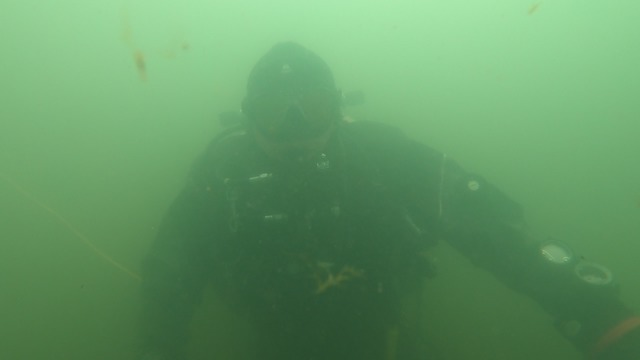Diver: (124, 43, 639, 357)
Head: (239, 45, 355, 197)
